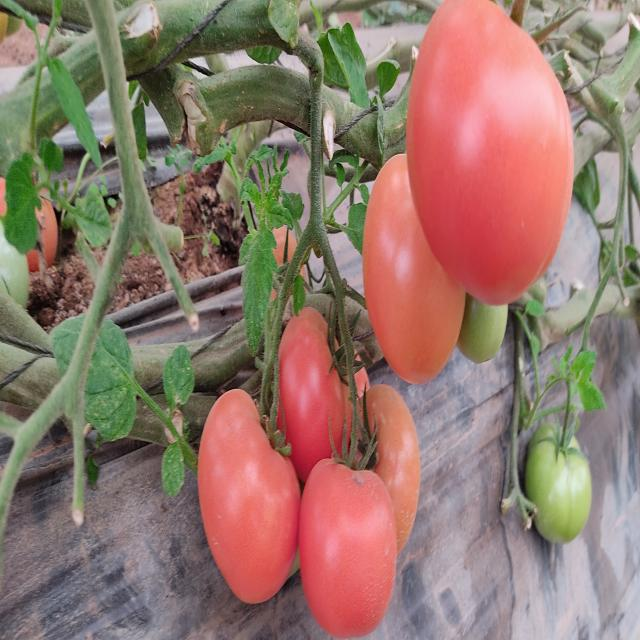Ripe Tomato: (410, 0, 577, 304), (366, 160, 467, 386), (201, 386, 298, 610), (298, 466, 396, 633), (278, 302, 349, 475)
Unripe Tomato: (532, 421, 590, 551)
